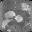people: (1, 19, 12, 29), (5, 10, 16, 18), (15, 15, 23, 23)
